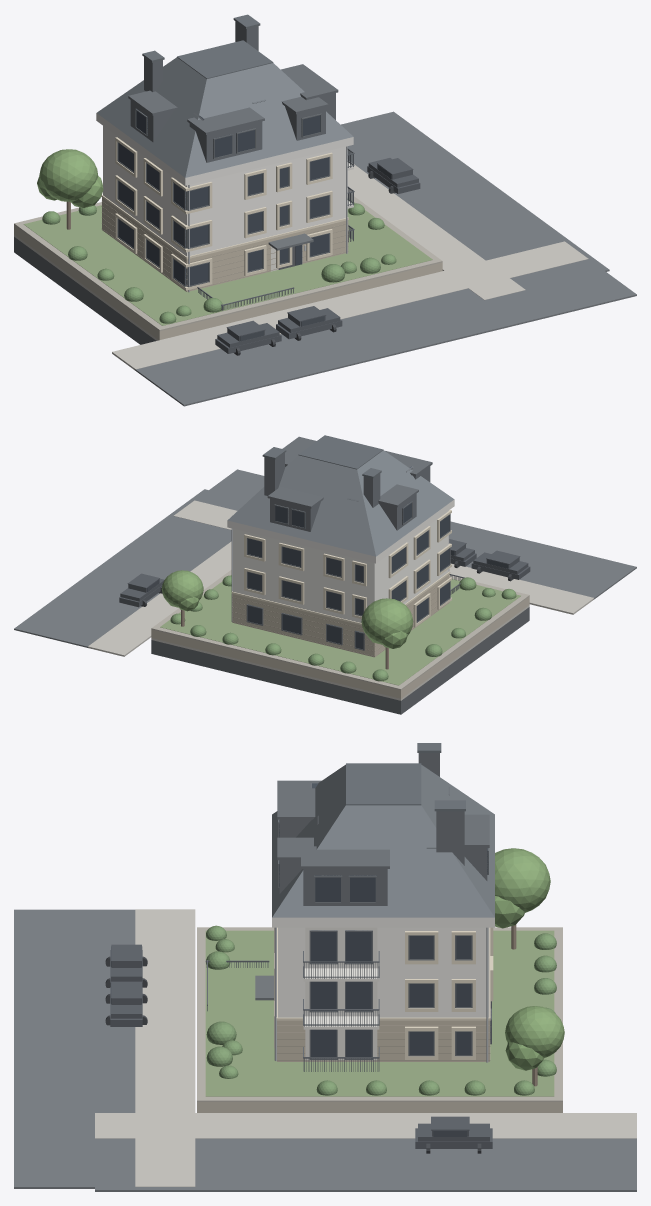
3 renders of one model, top to bottom at view 1: azimuth 30°, elevation 25°; view 2: azimuth 150°, elevation 25°; view 3: azimuth 270°, elevation 25°, orthographic. The views are drawn at different scales.
Visible parts, largest first — view 1: arsa__asfalt, arsa__kaldirim, arsa__cim, cati__cati_arduvaz, govde__siva_beyaz, cati__dormer_metal, cephe__cam, cephe__sove_bej, arsa__tas_duvar, araclar__arac_koyu, govde__tas_zemin, arsa__harpusta (+9 smaller); view 2: arsa__asfalt, cati__cati_arduvaz, arsa__cim, arsa__kaldirim, govde__siva_beyaz, arsa__kaide, cati__dormer_metal, cephe__cam, cephe__sove_bej, govde__tas_zemin, arsa__tas_duvar, bitki__yaprak (+9 smaller); view 3: arsa__asfalt, arsa__kaldirim, arsa__cim, cati__cati_arduvaz, cati__dormer_metal, govde__siva_beyaz, cephe__cam, bitki__yaprak, arsa__harpusta, bitki__cit, araclar__arac_koyu, govde__tas_zemin (+12 smaller).
Part boxes in pixels (bbox=[...]): arsa__asfalt: bbox=[135, 111, 636, 406]; arsa__kaldirim: bbox=[14, 161, 588, 370]; arsa__cim: bbox=[23, 197, 432, 325]; cati__cati_arduvaz: bbox=[97, 57, 353, 177]; govde__siva_beyaz: bbox=[103, 126, 345, 256]; cati__dormer_metal: bbox=[128, 21, 338, 162]; cephe__cam: bbox=[118, 143, 328, 286]; cephe__sove_bej: bbox=[115, 137, 332, 290]; arsa__tas_duvar: bbox=[14, 225, 442, 340]; araclar__arac_koyu: bbox=[215, 158, 420, 353]; govde__tas_zemin: bbox=[102, 198, 348, 291]; arsa__harpusta: bbox=[14, 192, 442, 331]; arsa__asfalt: bbox=[14, 469, 636, 647]; cati__cati_arduvaz: bbox=[227, 450, 454, 556]; arsa__cim: bbox=[160, 575, 520, 685]; arsa__kaldirim: bbox=[88, 500, 593, 700]; govde__siva_beyaz: bbox=[233, 511, 448, 622]; arsa__kaide: bbox=[151, 607, 529, 714]; cati__dormer_metal: bbox=[264, 436, 432, 531]; cephe__cam: bbox=[247, 515, 449, 650]; cephe__sove_bej: bbox=[244, 510, 451, 627]; govde__tas_zemin: bbox=[232, 574, 449, 657]; arsa__tas_duvar: bbox=[151, 596, 529, 698]; bitki__yaprak: bbox=[161, 570, 413, 648]; arsa__asfalt: bbox=[14, 909, 636, 1191]; arsa__kaldirim: bbox=[95, 909, 636, 1186]; arsa__cim: bbox=[205, 930, 554, 1096]; cati__cati_arduvaz: bbox=[272, 764, 494, 917]; cati__dormer_metal: bbox=[277, 753, 489, 905]; govde__siva_beyaz: bbox=[278, 927, 489, 1017]; cephe__cam: bbox=[311, 930, 491, 1056]; bitki__yaprak: bbox=[495, 848, 564, 1070]; arsa__harpusta: bbox=[197, 927, 562, 1101]; bitki__cit: bbox=[206, 925, 556, 1095]; araclar__arac_koyu: bbox=[110, 944, 492, 1148]; govde__tas_zemin: bbox=[277, 1020, 489, 1061].
Size of the model in its own units: 37.7 by 17.4 by 35.4.
